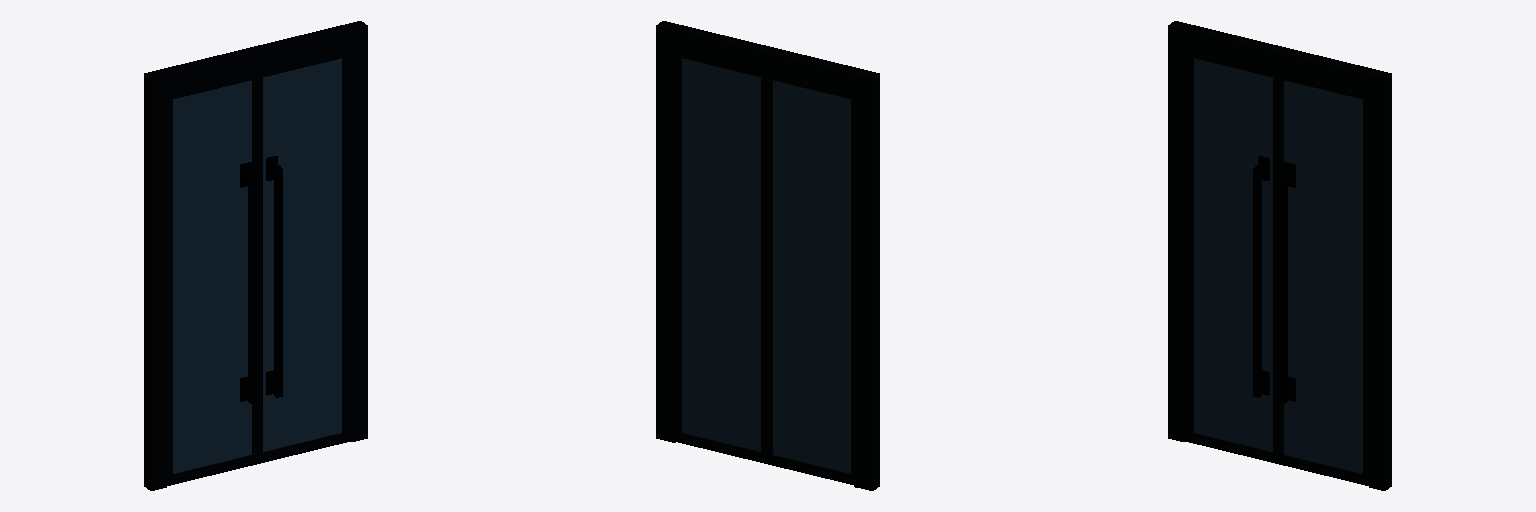
robot.urdf — paired_glazed_pull_door:
<robot name="paired_glazed_pull_door">
  <material name="black_aluminum">
    <color rgba="0.018 0.022 0.026 1" />
    </material>
  <material name="tinted_glass">
    <color rgba="0.105 0.17 0.22 0.34" />
    </material>
  <material name="glossy_black_handle">
    <color rgba="0.01 0.012 0.014 1" />
    </material>
  <link name="frame">
    <visual name="side_frame_0">
      <origin xyz="-0.674986 0.025 1.32672" rpy="0 0 0" />
      <geometry>
        <box size="0.10758 0.08 2.65343" />
        </geometry>
      <material name="black_aluminum">
        <color rgba="0.018 0.022 0.026 1" />
        </material>
      </visual>
    <visual name="side_frame_1">
      <origin xyz="0.674986 0.025 1.32672" rpy="0 0 0" />
      <geometry>
        <box size="0.10758 0.08 2.65343" />
        </geometry>
      <material name="black_aluminum">
        <color rgba="0.018 0.022 0.026 1" />
        </material>
      </visual>
    <visual name="inner_header">
      <origin xyz="0 0.02 2.57893" rpy="0 0 0" />
      <geometry>
        <box size="1.24239 0.07 0.086" />
        </geometry>
      <material name="black_aluminum">
        <color rgba="0.018 0.022 0.026 1" />
        </material>
      </visual>
    <visual name="upper_header">
      <origin xyz="0 0.025 2.63768" rpy="0 0 0" />
      <geometry>
        <box size="1.24239 0.08 0.0315027" />
        </geometry>
      <material name="black_aluminum">
        <color rgba="0.018 0.022 0.026 1" />
        </material>
      </visual>
    <visual name="hinge_jamb_0">
      <origin xyz="-0.620821 0.024 1.26759" rpy="0 0 0" />
      <geometry>
        <box size="0.00075 0.048 2.53518" />
        </geometry>
      <material name="black_aluminum">
        <color rgba="0.018 0.022 0.026 1" />
        </material>
      </visual>
    <visual name="hinge_jamb_1">
      <origin xyz="0.620821 0.024 1.26759" rpy="0 0 0" />
      <geometry>
        <box size="0.00075 0.048 2.53518" />
        </geometry>
      <material name="black_aluminum">
        <color rgba="0.018 0.022 0.026 1" />
        </material>
      </visual>
    <visual name="jamb_stop_0">
      <origin xyz="-0.612196 0.061 1.26759" rpy="0 0 0" />
      <geometry>
        <box size="0.018 0.018 2.53518" />
        </geometry>
      <material name="black_aluminum">
        <color rgba="0.018 0.022 0.026 1" />
        </material>
      </visual>
    <visual name="jamb_stop_1">
      <origin xyz="0.612196 0.061 1.26759" rpy="0 0 0" />
      <geometry>
        <box size="0.018 0.018 2.53518" />
        </geometry>
      <material name="black_aluminum">
        <color rgba="0.018 0.022 0.026 1" />
        </material>
      </visual>
    <collision name="side_frame_0">
      <origin xyz="-0.674986 0.025 1.32672" rpy="0 0 0" />
      <geometry>
        <box size="0.10758 0.08 2.65343" />
        </geometry>
      </collision>
    <collision name="side_frame_1">
      <origin xyz="0.674986 0.025 1.32672" rpy="0 0 0" />
      <geometry>
        <box size="0.10758 0.08 2.65343" />
        </geometry>
      </collision>
    <collision name="inner_header">
      <origin xyz="0 0.02 2.57893" rpy="0 0 0" />
      <geometry>
        <box size="1.24239 0.07 0.086" />
        </geometry>
      </collision>
    <collision name="upper_header">
      <origin xyz="0 0.025 2.63768" rpy="0 0 0" />
      <geometry>
        <box size="1.24239 0.08 0.0315027" />
        </geometry>
      </collision>
    <collision name="hinge_jamb_0">
      <origin xyz="-0.620821 0.024 1.26759" rpy="0 0 0" />
      <geometry>
        <box size="0.00075 0.048 2.53518" />
        </geometry>
      </collision>
    <collision name="hinge_jamb_1">
      <origin xyz="0.620821 0.024 1.26759" rpy="0 0 0" />
      <geometry>
        <box size="0.00075 0.048 2.53518" />
        </geometry>
      </collision>
    <collision name="jamb_stop_0">
      <origin xyz="-0.612196 0.061 1.26759" rpy="0 0 0" />
      <geometry>
        <box size="0.018 0.018 2.53518" />
        </geometry>
      </collision>
    <collision name="jamb_stop_1">
      <origin xyz="0.612196 0.061 1.26759" rpy="0 0 0" />
      <geometry>
        <box size="0.018 0.018 2.53518" />
        </geometry>
      </collision>
    </link>
  <link name="door_0">
    <visual name="outer_stile">
      <origin xyz="0.023 0.024 1.26759" rpy="0 0 0" />
      <geometry>
        <box size="0.046 0.048 2.53518" />
        </geometry>
      <material name="black_aluminum">
        <color rgba="0.018 0.022 0.026 1" />
        </material>
      </visual>
    <visual name="meeting_stile">
      <origin xyz="0.603446 0.024 1.26759" rpy="0 0 0" />
      <geometry>
        <box size="0.034 0.048 2.53518" />
        </geometry>
      <material name="black_aluminum">
        <color rgba="0.018 0.022 0.026 1" />
        </material>
      </visual>
    <visual name="bottom_rail">
      <origin xyz="0.316223 0.024 0.03" rpy="0 0 0" />
      <geometry>
        <box size="0.540446 0.048 0.06" />
        </geometry>
      <material name="black_aluminum">
        <color rgba="0.018 0.022 0.026 1" />
        </material>
      </visual>
    <visual name="top_rail">
      <origin xyz="0.316223 0.024 2.50518" rpy="0 0 0" />
      <geometry>
        <box size="0.540446 0.048 0.06" />
        </geometry>
      <material name="black_aluminum">
        <color rgba="0.018 0.022 0.026 1" />
        </material>
      </visual>
    <visual name="glass_panel">
      <origin xyz="0.316223 0.024 1.26759" rpy="0 0 0" />
      <geometry>
        <box size="0.540446 0.014 2.41518" />
        </geometry>
      <material name="tinted_glass">
        <color rgba="0.105 0.17 0.22 0.34" />
        </material>
      </visual>
    <collision name="outer_stile">
      <origin xyz="0.023 0.024 1.26759" rpy="0 0 0" />
      <geometry>
        <box size="0.046 0.048 2.53518" />
        </geometry>
      </collision>
    <collision name="meeting_stile">
      <origin xyz="0.603446 0.024 1.26759" rpy="0 0 0" />
      <geometry>
        <box size="0.034 0.048 2.53518" />
        </geometry>
      </collision>
    <collision name="bottom_rail">
      <origin xyz="0.316223 0.024 0.03" rpy="0 0 0" />
      <geometry>
        <box size="0.540446 0.048 0.06" />
        </geometry>
      </collision>
    <collision name="top_rail">
      <origin xyz="0.316223 0.024 2.50518" rpy="0 0 0" />
      <geometry>
        <box size="0.540446 0.048 0.06" />
        </geometry>
      </collision>
    <collision name="glass_panel">
      <origin xyz="0.316223 0.024 1.26759" rpy="0 0 0" />
      <geometry>
        <box size="0.540446 0.014 2.41518" />
        </geometry>
      </collision>
    </link>
  <link name="door_1">
    <visual name="outer_stile">
      <origin xyz="-0.023 0.024 1.26759" rpy="0 0 0" />
      <geometry>
        <box size="0.046 0.048 2.53518" />
        </geometry>
      <material name="black_aluminum">
        <color rgba="0.018 0.022 0.026 1" />
        </material>
      </visual>
    <visual name="meeting_stile">
      <origin xyz="-0.603446 0.024 1.26759" rpy="0 0 0" />
      <geometry>
        <box size="0.034 0.048 2.53518" />
        </geometry>
      <material name="black_aluminum">
        <color rgba="0.018 0.022 0.026 1" />
        </material>
      </visual>
    <visual name="bottom_rail">
      <origin xyz="-0.316223 0.024 0.03" rpy="0 0 0" />
      <geometry>
        <box size="0.540446 0.048 0.06" />
        </geometry>
      <material name="black_aluminum">
        <color rgba="0.018 0.022 0.026 1" />
        </material>
      </visual>
    <visual name="top_rail">
      <origin xyz="-0.316223 0.024 2.50518" rpy="0 0 0" />
      <geometry>
        <box size="0.540446 0.048 0.06" />
        </geometry>
      <material name="black_aluminum">
        <color rgba="0.018 0.022 0.026 1" />
        </material>
      </visual>
    <visual name="glass_panel">
      <origin xyz="-0.316223 0.024 1.26759" rpy="0 0 0" />
      <geometry>
        <box size="0.540446 0.014 2.41518" />
        </geometry>
      <material name="tinted_glass">
        <color rgba="0.105 0.17 0.22 0.34" />
        </material>
      </visual>
    <collision name="outer_stile">
      <origin xyz="-0.023 0.024 1.26759" rpy="0 0 0" />
      <geometry>
        <box size="0.046 0.048 2.53518" />
        </geometry>
      </collision>
    <collision name="meeting_stile">
      <origin xyz="-0.603446 0.024 1.26759" rpy="0 0 0" />
      <geometry>
        <box size="0.034 0.048 2.53518" />
        </geometry>
      </collision>
    <collision name="bottom_rail">
      <origin xyz="-0.316223 0.024 0.03" rpy="0 0 0" />
      <geometry>
        <box size="0.540446 0.048 0.06" />
        </geometry>
      </collision>
    <collision name="top_rail">
      <origin xyz="-0.316223 0.024 2.50518" rpy="0 0 0" />
      <geometry>
        <box size="0.540446 0.048 0.06" />
        </geometry>
      </collision>
    <collision name="glass_panel">
      <origin xyz="-0.316223 0.024 1.26759" rpy="0 0 0" />
      <geometry>
        <box size="0.540446 0.014 2.41518" />
        </geometry>
      </collision>
    </link>
  <link name="handle_mount_0">
    <visual name="pull_bar">
      <origin xyz="0.532949 -0.083 1.18032" rpy="0 0 0" />
      <geometry>
        <box size="0.038 0.038 1.46" />
        </geometry>
      <material name="glossy_black_handle">
        <color rgba="0.01 0.012 0.014 1" />
        </material>
      </visual>
    <visual name="handle_mount_0">
      <origin xyz="0.532949 -0.006 0.505321" rpy="0 0 0" />
      <geometry>
        <box size="0.072 0.014 0.145" />
        </geometry>
      <material name="glossy_black_handle">
        <color rgba="0.01 0.012 0.014 1" />
        </material>
      </visual>
    <visual name="handle_mount_1">
      <origin xyz="0.532949 -0.006 1.88032" rpy="0 0 0" />
      <geometry>
        <box size="0.072 0.014 0.145" />
        </geometry>
      <material name="glossy_black_handle">
        <color rgba="0.01 0.012 0.014 1" />
        </material>
      </visual>
    <visual name="handle_connector_0">
      <origin xyz="0.532949 -0.039 0.505321" rpy="0 0 0" />
      <geometry>
        <box size="0.054 0.052 0.066" />
        </geometry>
      <material name="glossy_black_handle">
        <color rgba="0.01 0.012 0.014 1" />
        </material>
      </visual>
    <visual name="handle_connector_1">
      <origin xyz="0.532949 -0.039 1.88032" rpy="0 0 0" />
      <geometry>
        <box size="0.054 0.052 0.066" />
        </geometry>
      <material name="glossy_black_handle">
        <color rgba="0.01 0.012 0.014 1" />
        </material>
      </visual>
    <visual name="leaf_anchor_0">
      <origin xyz="0.532949 -0.0029 0.505321" rpy="0 0 0" />
      <geometry>
        <box size="0.054 0.04 0.066" />
        </geometry>
      <material name="glossy_black_handle">
        <color rgba="0.01 0.012 0.014 1" />
        </material>
      </visual>
    <visual name="leaf_anchor_1">
      <origin xyz="0.532949 -0.0029 1.88032" rpy="0 0 0" />
      <geometry>
        <box size="0.054 0.04 0.066" />
        </geometry>
      <material name="glossy_black_handle">
        <color rgba="0.01 0.012 0.014 1" />
        </material>
      </visual>
    <collision name="pull_bar">
      <origin xyz="0.532949 -0.083 1.18032" rpy="0 0 0" />
      <geometry>
        <box size="0.038 0.038 1.46" />
        </geometry>
      </collision>
    <collision name="handle_mount_0">
      <origin xyz="0.532949 -0.006 0.505321" rpy="0 0 0" />
      <geometry>
        <box size="0.072 0.014 0.145" />
        </geometry>
      </collision>
    <collision name="handle_mount_1">
      <origin xyz="0.532949 -0.006 1.88032" rpy="0 0 0" />
      <geometry>
        <box size="0.072 0.014 0.145" />
        </geometry>
      </collision>
    <collision name="handle_connector_0">
      <origin xyz="0.532949 -0.039 0.505321" rpy="0 0 0" />
      <geometry>
        <box size="0.054 0.052 0.066" />
        </geometry>
      </collision>
    <collision name="handle_connector_1">
      <origin xyz="0.532949 -0.039 1.88032" rpy="0 0 0" />
      <geometry>
        <box size="0.054 0.052 0.066" />
        </geometry>
      </collision>
    <collision name="leaf_anchor_0">
      <origin xyz="0.532949 -0.0029 0.505321" rpy="0 0 0" />
      <geometry>
        <box size="0.054 0.04 0.066" />
        </geometry>
      </collision>
    <collision name="leaf_anchor_1">
      <origin xyz="0.532949 -0.0029 1.88032" rpy="0 0 0" />
      <geometry>
        <box size="0.054 0.04 0.066" />
        </geometry>
      </collision>
    </link>
  <link name="handle_mount_1">
    <visual name="pull_bar">
      <origin xyz="-0.532949 -0.083 1.18032" rpy="0 0 0" />
      <geometry>
        <box size="0.038 0.038 1.46" />
        </geometry>
      <material name="glossy_black_handle">
        <color rgba="0.01 0.012 0.014 1" />
        </material>
      </visual>
    <visual name="handle_mount_0">
      <origin xyz="-0.532949 -0.006 0.505321" rpy="0 0 0" />
      <geometry>
        <box size="0.072 0.014 0.145" />
        </geometry>
      <material name="glossy_black_handle">
        <color rgba="0.01 0.012 0.014 1" />
        </material>
      </visual>
    <visual name="handle_mount_1">
      <origin xyz="-0.532949 -0.006 1.88032" rpy="0 0 0" />
      <geometry>
        <box size="0.072 0.014 0.145" />
        </geometry>
      <material name="glossy_black_handle">
        <color rgba="0.01 0.012 0.014 1" />
        </material>
      </visual>
    <visual name="handle_connector_0">
      <origin xyz="-0.532949 -0.039 0.505321" rpy="0 0 0" />
      <geometry>
        <box size="0.054 0.052 0.066" />
        </geometry>
      <material name="glossy_black_handle">
        <color rgba="0.01 0.012 0.014 1" />
        </material>
      </visual>
    <visual name="handle_connector_1">
      <origin xyz="-0.532949 -0.039 1.88032" rpy="0 0 0" />
      <geometry>
        <box size="0.054 0.052 0.066" />
        </geometry>
      <material name="glossy_black_handle">
        <color rgba="0.01 0.012 0.014 1" />
        </material>
      </visual>
    <visual name="leaf_anchor_0">
      <origin xyz="-0.532949 -0.0029 0.505321" rpy="0 0 0" />
      <geometry>
        <box size="0.054 0.04 0.066" />
        </geometry>
      <material name="glossy_black_handle">
        <color rgba="0.01 0.012 0.014 1" />
        </material>
      </visual>
    <visual name="leaf_anchor_1">
      <origin xyz="-0.532949 -0.0029 1.88032" rpy="0 0 0" />
      <geometry>
        <box size="0.054 0.04 0.066" />
        </geometry>
      <material name="glossy_black_handle">
        <color rgba="0.01 0.012 0.014 1" />
        </material>
      </visual>
    <collision name="pull_bar">
      <origin xyz="-0.532949 -0.083 1.18032" rpy="0 0 0" />
      <geometry>
        <box size="0.038 0.038 1.46" />
        </geometry>
      </collision>
    <collision name="handle_mount_0">
      <origin xyz="-0.532949 -0.006 0.505321" rpy="0 0 0" />
      <geometry>
        <box size="0.072 0.014 0.145" />
        </geometry>
      </collision>
    <collision name="handle_mount_1">
      <origin xyz="-0.532949 -0.006 1.88032" rpy="0 0 0" />
      <geometry>
        <box size="0.072 0.014 0.145" />
        </geometry>
      </collision>
    <collision name="handle_connector_0">
      <origin xyz="-0.532949 -0.039 0.505321" rpy="0 0 0" />
      <geometry>
        <box size="0.054 0.052 0.066" />
        </geometry>
      </collision>
    <collision name="handle_connector_1">
      <origin xyz="-0.532949 -0.039 1.88032" rpy="0 0 0" />
      <geometry>
        <box size="0.054 0.052 0.066" />
        </geometry>
      </collision>
    <collision name="leaf_anchor_0">
      <origin xyz="-0.532949 -0.0029 0.505321" rpy="0 0 0" />
      <geometry>
        <box size="0.054 0.04 0.066" />
        </geometry>
      </collision>
    <collision name="leaf_anchor_1">
      <origin xyz="-0.532949 -0.0029 1.88032" rpy="0 0 0" />
      <geometry>
        <box size="0.054 0.04 0.066" />
        </geometry>
      </collision>
    </link>
  <joint name="frame_to_door_0" type="revolute">
    <origin xyz="-0.620446 0 0" rpy="0 0 0" />
    <parent link="frame" />
    <child link="door_0" />
    <axis xyz="0 0 -1" />
    <limit effort="80" velocity="1.2" lower="0" upper="1.7" />
    <dynamics damping="2" friction="0.25" />
    </joint>
  <joint name="frame_to_door_1" type="revolute">
    <origin xyz="0.620446 0 0" rpy="0 0 0" />
    <parent link="frame" />
    <child link="door_1" />
    <axis xyz="0 0 1" />
    <limit effort="80" velocity="1.2" lower="0" upper="1.7" />
    <dynamics damping="2" friction="0.25" />
    </joint>
  <joint name="door_0_to_handle_mount" type="fixed">
    <parent link="door_0" />
    <child link="handle_mount_0" />
    </joint>
  <joint name="door_1_to_handle_mount" type="fixed">
    <parent link="door_1" />
    <child link="handle_mount_1" />
    </joint>
  </robot>

--- Render facts (derived) ---
Views: 3 orthographic renders of the robot side by side, from view 1: azimuth 30°, elevation 25°; view 2: azimuth 150°, elevation 25°; view 3: azimuth 330°, elevation 25°.
Model paired_glazed_pull_door with 5 links and 4 joints (2 revolute, 2 fixed), rooted at frame, posed all joints at 0.
Links seen in each view (by area): view 1: door_1, door_0, frame, handle_mount_0, handle_mount_1; view 2: door_1, door_0, frame; view 3: door_0, door_1, frame, handle_mount_0, handle_mount_1.
Link boxes in pixels (left/top/right/bottom): door_1: left=258, top=48, right=349, bottom=463; door_0: left=167, top=71, right=257, bottom=485; frame: left=144, top=21, right=367, bottom=490; handle_mount_0: left=240, top=162, right=256, bottom=403; handle_mount_1: left=266, top=156, right=282, bottom=397; door_1: left=676, top=48, right=765, bottom=463; door_0: left=766, top=70, right=854, bottom=484; frame: left=656, top=21, right=879, bottom=490; door_0: left=1186, top=48, right=1277, bottom=463; door_1: left=1278, top=71, right=1368, bottom=485; frame: left=1168, top=21, right=1391, bottom=490; handle_mount_0: left=1253, top=156, right=1269, bottom=397; handle_mount_1: left=1279, top=162, right=1295, bottom=403.
Bounding box of the posed robot: 1.46 × 0.172 × 2.65 m (x, y, z).
Geometry: primitives only (box / cylinder / sphere), no mesh files.
